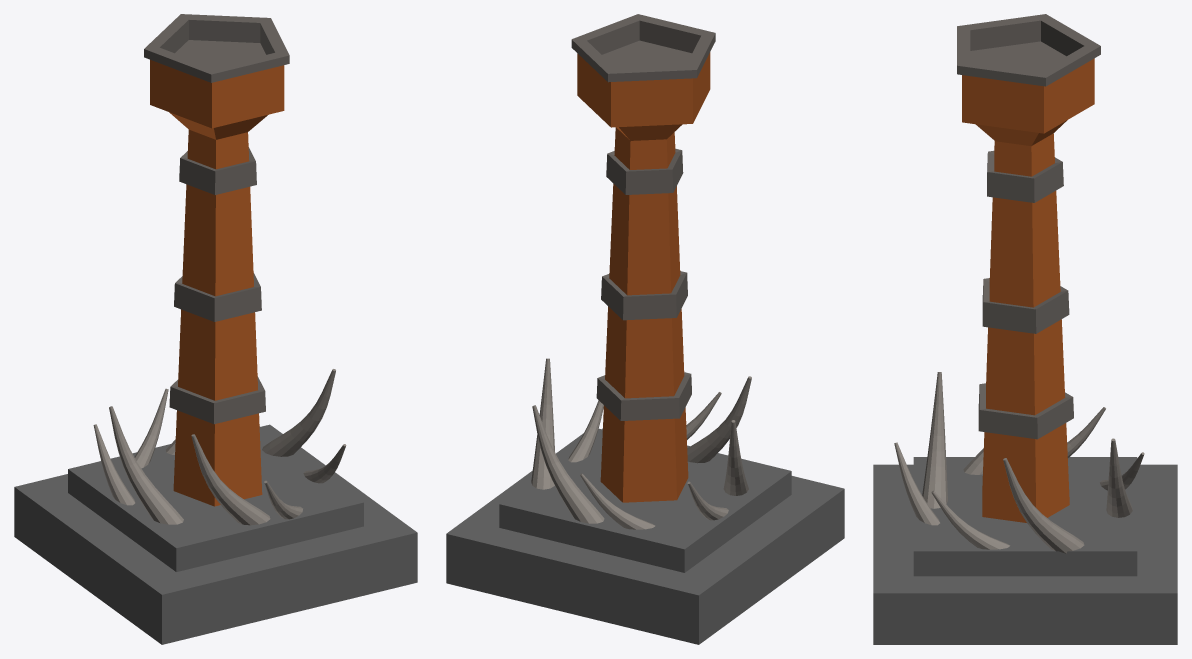
Rendered from TORCH_NOLight.fbx.
3 views of the same model, side by side, from view 1: azimuth 30°, elevation 25°; view 2: azimuth 150°, elevation 25°; view 3: azimuth 270°, elevation 25° (orthographic). The views are drawn at different scales.
Parts seen in each view (by area): view 1: Cube.015; view 2: Cube.015; view 3: Cube.015.
Boxes of the visible parts, bbox=[...] form: Cube.015: bbox=[14, 14, 417, 644]; Cube.015: bbox=[446, 14, 844, 644]; Cube.015: bbox=[873, 14, 1177, 644].
Bounding box in the file's own units: 168 × 325 × 168.
